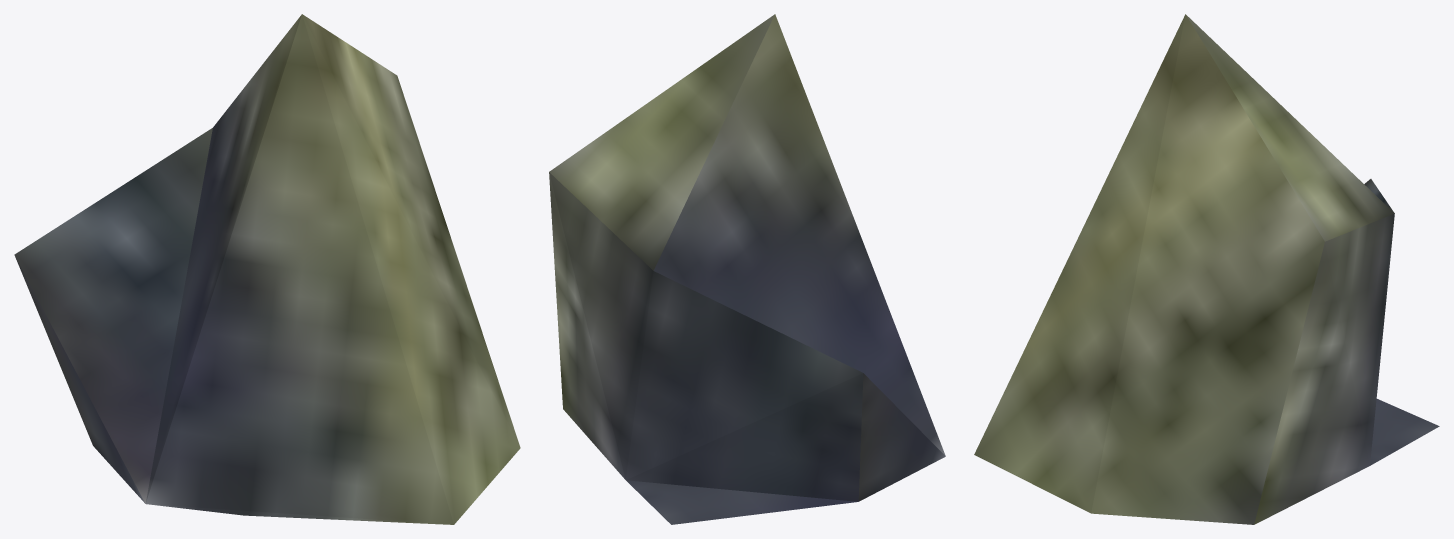
3 views of the same model, side by side, from view 1: azimuth 30°, elevation 25°; view 2: azimuth 150°, elevation 25°; view 3: azimuth 270°, elevation 25° (orthographic). The views are drawn at different scales.
Parts seen in each view (by area): view 1: Mesh_0.171; view 2: Mesh_0.171; view 3: Mesh_0.171.
Part boxes in pixels (x1=…): Mesh_0.171: x1=14, y1=14, x2=520, y2=524; Mesh_0.171: x1=549, y1=14, x2=945, y2=524; Mesh_0.171: x1=974, y1=14, x2=1439, y2=524.
Size of the model in its own units: 7.04 by 7.79 by 7.78.
Materials: 1 (1 with a texture image).
